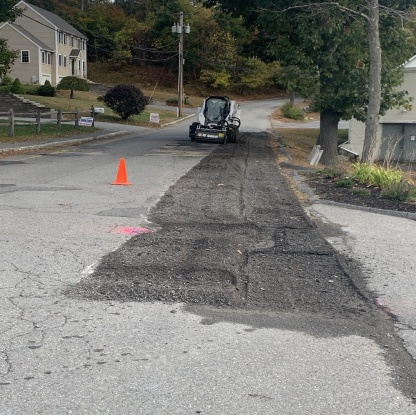pothole: (59, 217, 380, 318)
